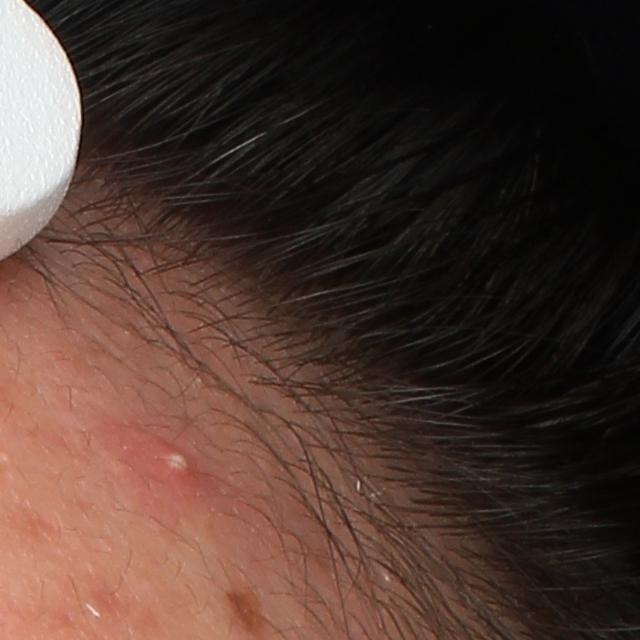pustule: (134, 431, 208, 488)
